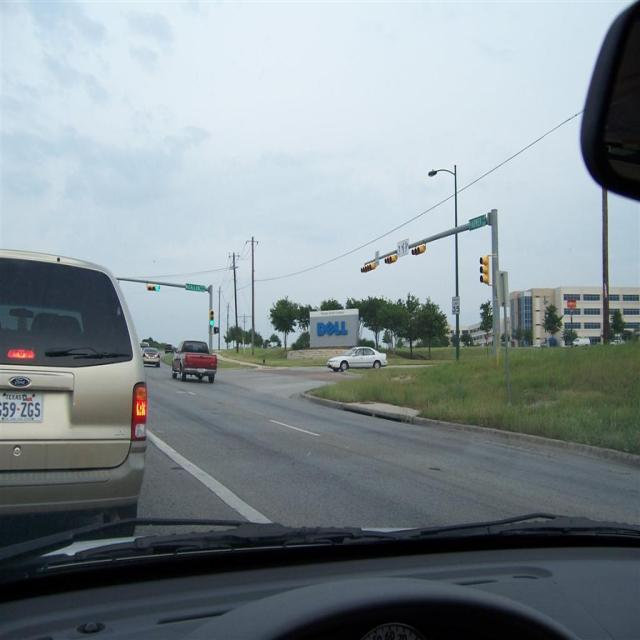car: (324, 344, 390, 368)
